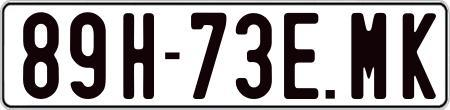3: (233, 11, 273, 97)
7: (189, 10, 228, 98)
8: (20, 11, 57, 101)
9: (68, 12, 109, 102)
E: (281, 13, 321, 99)
H: (120, 10, 152, 97)
K: (400, 10, 435, 101)
M: (351, 13, 387, 103)
